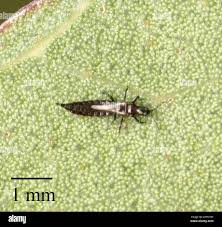Phlaeothripidae: (57, 83, 157, 136)
